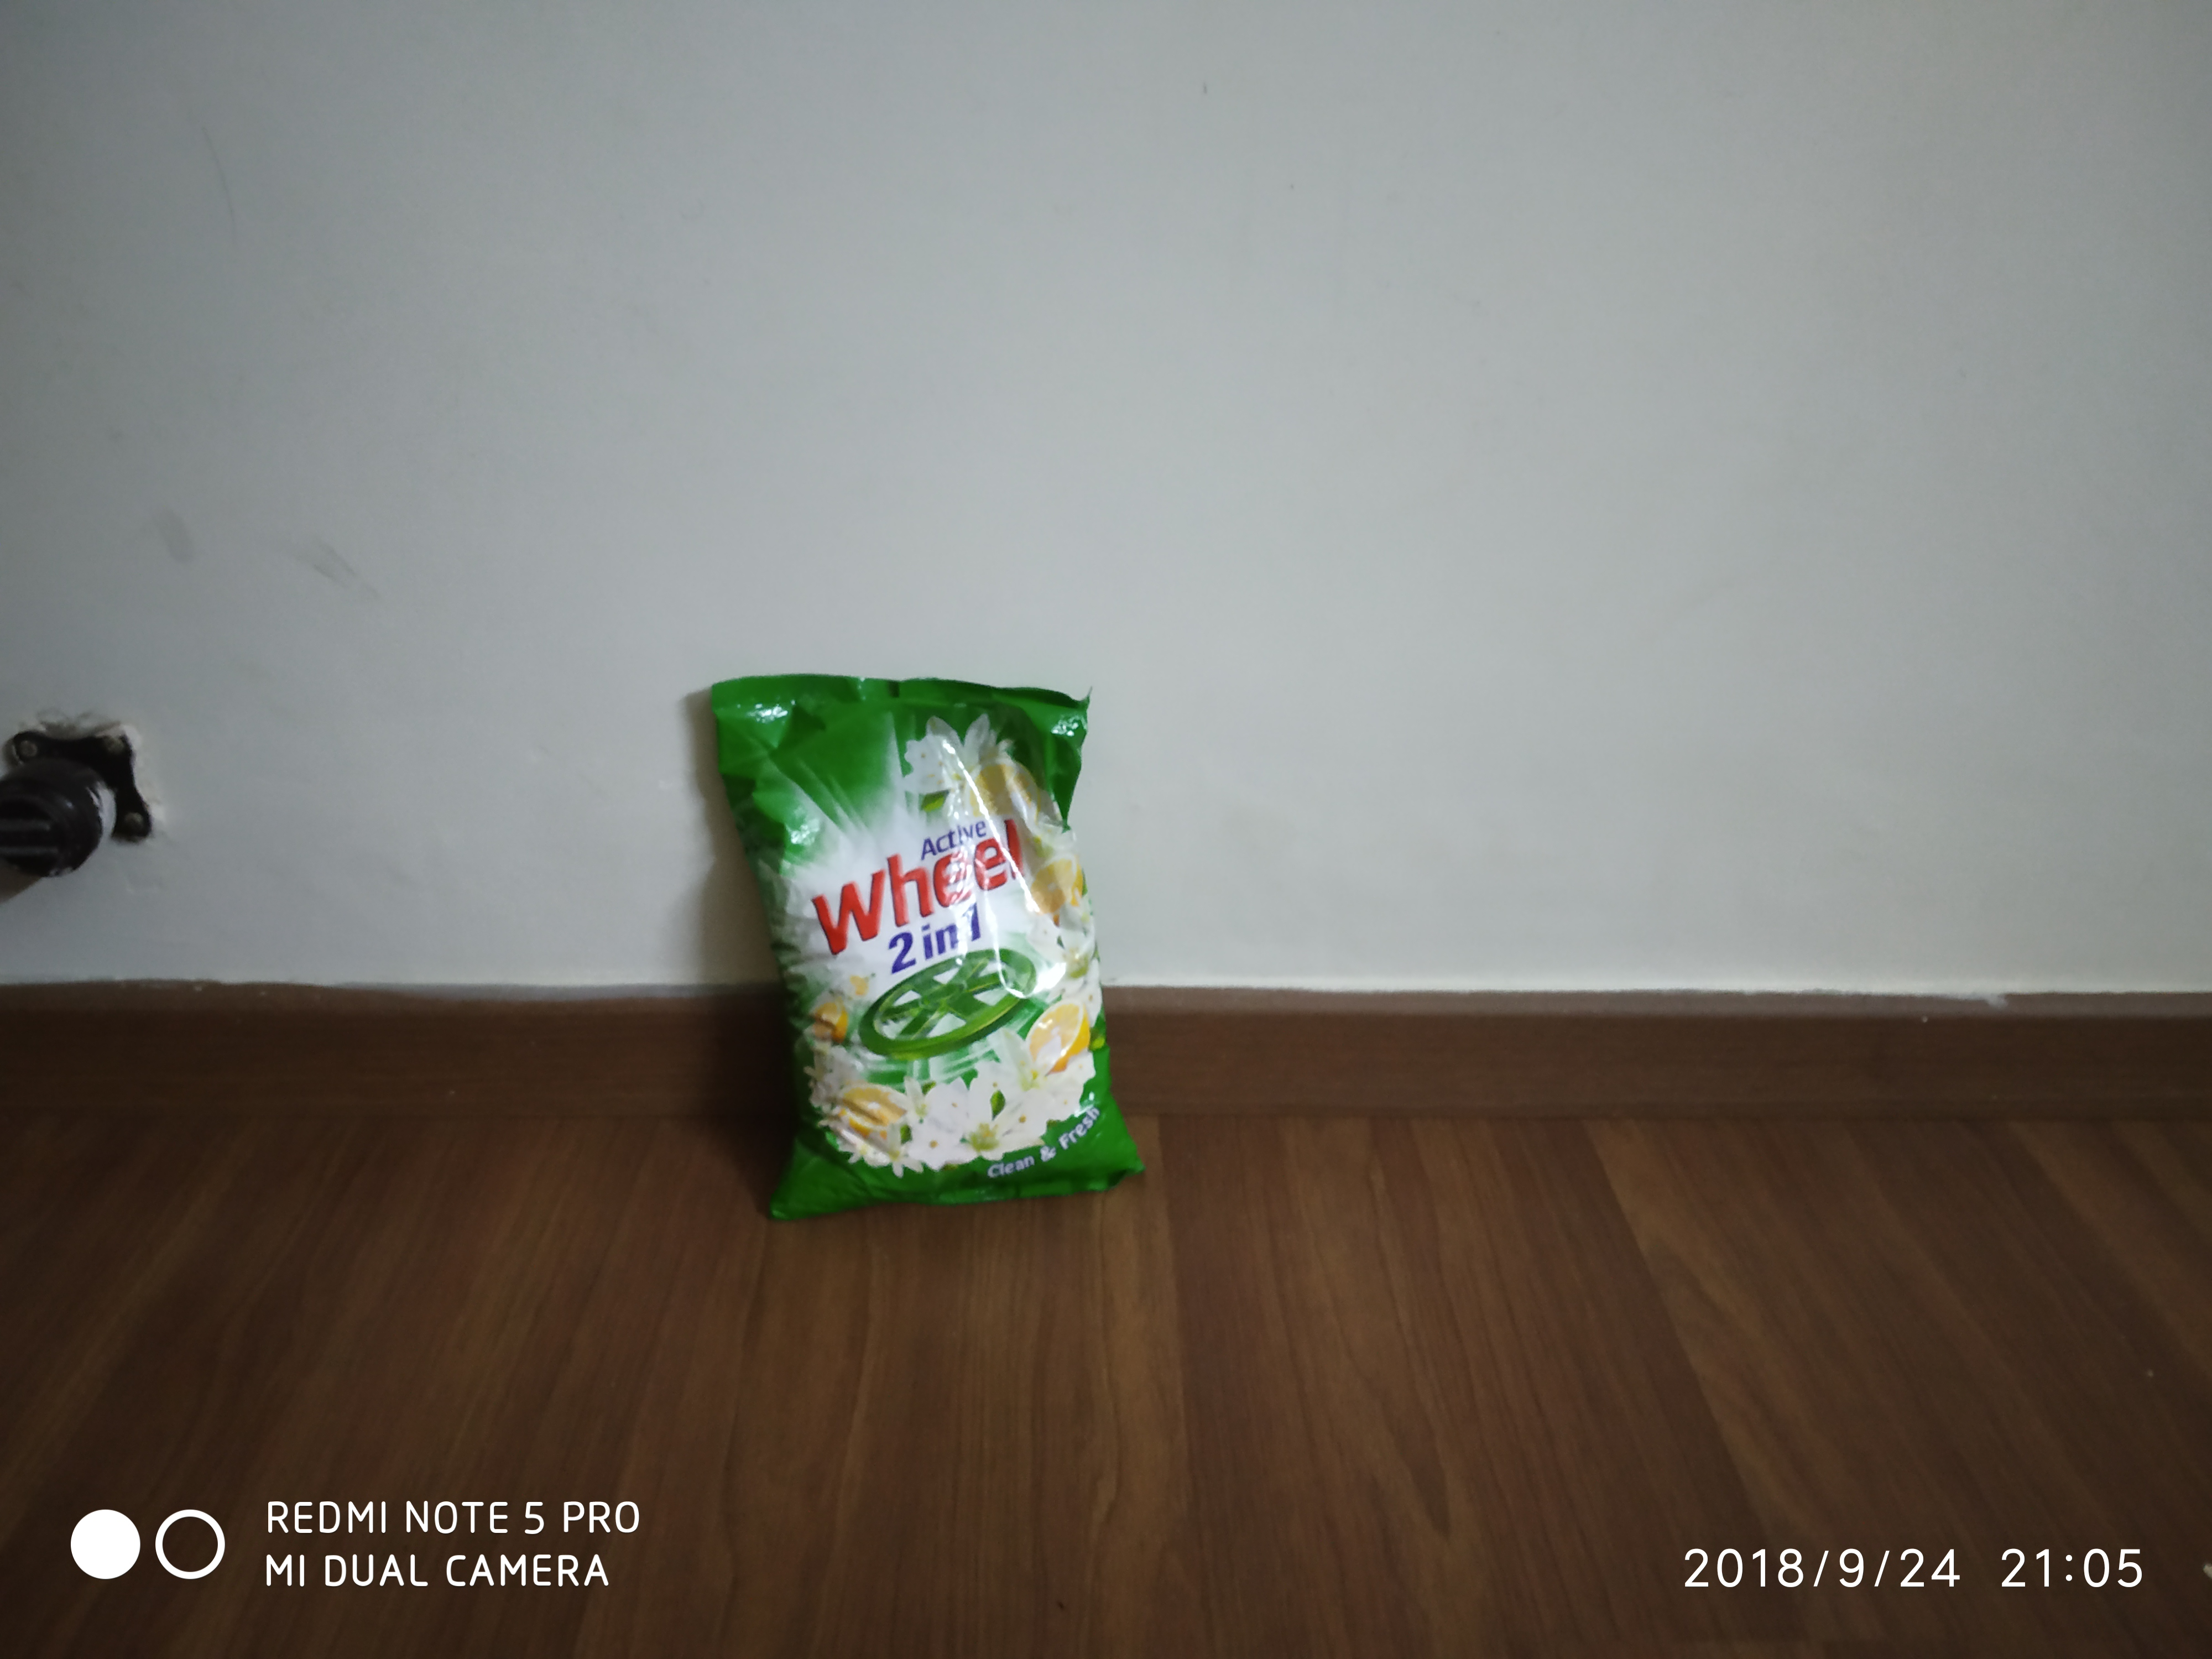detergent: (693, 670, 1165, 1217)
